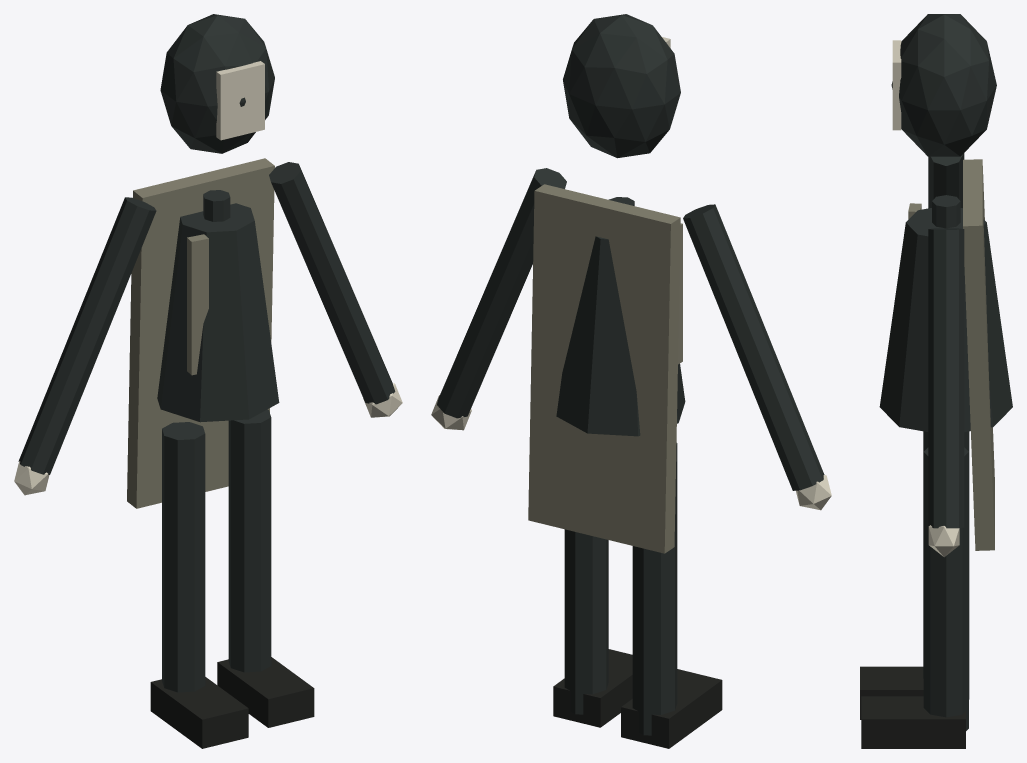
The model's file is dream_runner_character_01.glb.
3 views of the same model, side by side, from view 1: azimuth 30°, elevation 25°; view 2: azimuth 150°, elevation 25°; view 3: azimuth 270°, elevation 25° (orthographic). The views are drawn at different scales.
Parts seen in each view (by area): view 1: DR_Coat_Back_Panel, DR_Torso_Coat, DR_Left_Leg, DR_Right_Leg, DR_Left_Arm, DR_Hood_Head, DR_Right_Arm, DR_Left_Foot, DR_Right_Foot, DR_Faceless_Mask, DR_Hanging_Scarf, DR_Neck (+1 smaller); view 2: DR_Coat_Back_Panel, DR_Hood_Head, DR_Torso_Coat, DR_Left_Arm, DR_Left_Leg, DR_Right_Arm, DR_Right_Leg, DR_Left_Foot, DR_Right_Foot, DR_Left_Hand; view 3: DR_Torso_Coat, DR_Hood_Head, DR_Right_Arm, DR_Right_Leg, DR_Coat_Back_Panel, DR_Right_Foot, DR_Left_Foot, DR_Left_Arm, DR_Neck, DR_Faceless_Mask, DR_Right_Hand, DR_Left_Leg.
Boxes of the visible parts, x1=… form: DR_Coat_Back_Panel: x1=127, y1=158, x2=274, y2=508; DR_Torso_Coat: x1=157, y1=203, x2=279, y2=422; DR_Left_Leg: x1=162, y1=422, x2=205, y2=692; DR_Right_Leg: x1=228, y1=409, x2=271, y2=672; DR_Left_Arm: x1=18, y1=197, x2=156, y2=474; DR_Hood_Head: x1=160, y1=14, x2=274, y2=153; DR_Right_Arm: x1=269, y1=162, x2=395, y2=404; DR_Left_Foot: x1=150, y1=677, x2=248, y2=748; DR_Right_Foot: x1=217, y1=657, x2=314, y2=727; DR_Faceless_Mask: x1=216, y1=61, x2=264, y2=140; DR_Hanging_Scarf: x1=187, y1=234, x2=208, y2=375; DR_Neck: x1=203, y1=190, x2=230, y2=221; DR_Coat_Back_Panel: x1=528, y1=184, x2=680, y2=553; DR_Hood_Head: x1=563, y1=14, x2=680, y2=158; DR_Torso_Coat: x1=556, y1=236, x2=685, y2=436; DR_Left_Arm: x1=683, y1=204, x2=824, y2=490; DR_Left_Leg: x1=632, y1=443, x2=677, y2=735; DR_Right_Arm: x1=437, y1=168, x2=566, y2=418; DR_Right_Leg: x1=564, y1=529, x2=608, y2=714; DR_Left_Foot: x1=621, y1=669, x2=722, y2=748; DR_Right_Foot: x1=553, y1=649, x2=632, y2=727; DR_Left_Hand: x1=796, y1=475, x2=831, y2=510; DR_Torso_Coat: x1=879, y1=208, x2=1012, y2=431; DR_Hood_Head: x1=891, y1=14, x2=996, y2=156; DR_Right_Arm: x1=928, y1=228, x2=964, y2=528; DR_Right_Leg: x1=923, y1=447, x2=968, y2=730; DR_Coat_Back_Panel: x1=963, y1=159, x2=994, y2=550; DR_Right_Foot: x1=861, y1=696, x2=965, y2=748; DR_Left_Foot: x1=860, y1=666, x2=923, y2=719; DR_Left_Arm: x1=928, y1=153, x2=964, y2=208; DR_Neck: x1=932, y1=195, x2=960, y2=228; DR_Faceless_Mask: x1=892, y1=40, x2=901, y2=130; DR_Right_Hand: x1=928, y1=525, x2=959, y2=557; DR_Left_Leg: x1=923, y1=431, x2=969, y2=699.
Bounding box in the file's own units: 1.1 × 1.89 × 0.3686.
